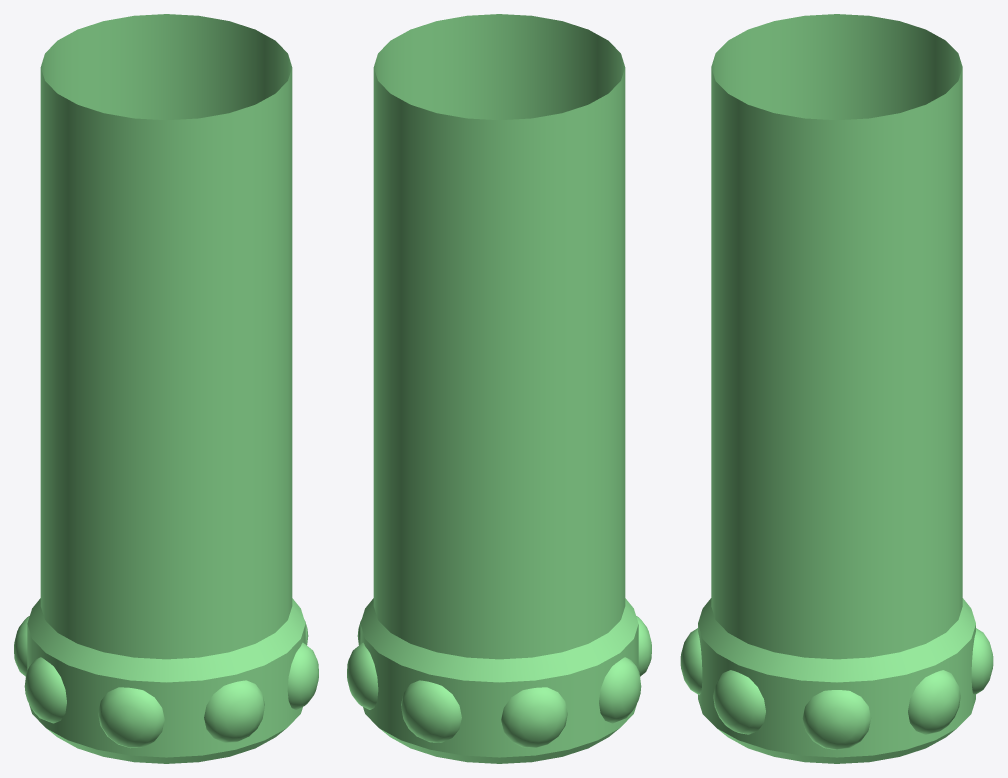
Rendered from pipe_small_oneside.fbx.
3 renders of one model, left to right at view 1: azimuth 30°, elevation 25°; view 2: azimuth 150°, elevation 25°; view 3: azimuth 270°, elevation 25°, orthographic.
Parts seen in each view (by area): view 1: pipe_small_oneside; view 2: pipe_small_oneside; view 3: pipe_small_oneside.
Part boxes in pixels (x1,y1,x2,y2): pipe_small_oneside: (14, 14, 318, 763); pipe_small_oneside: (347, 14, 651, 763); pipe_small_oneside: (680, 14, 993, 763).
Bounding box in the file's own units: 132 × 300 × 132.
